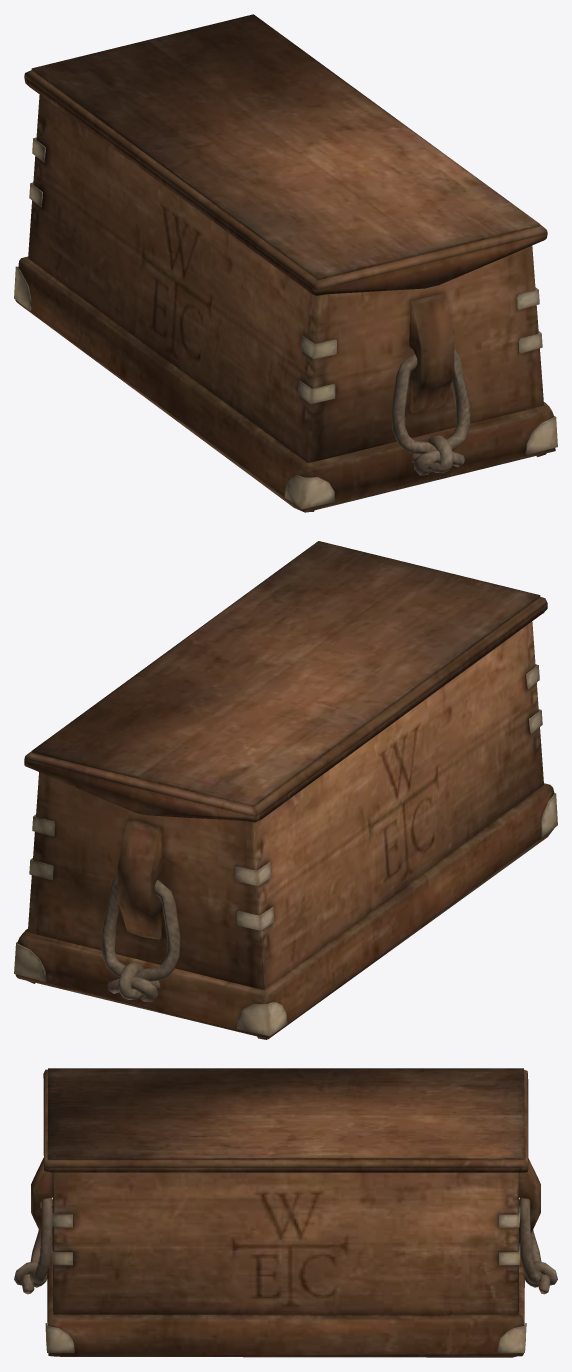
The model's file is wooden_crate_02.glb.
3 renders of one model, top to bottom at view 1: azimuth 30°, elevation 25°; view 2: azimuth 150°, elevation 25°; view 3: azimuth 270°, elevation 25°, orthographic. The views are drawn at different scales.
Parts seen in each view (by area): view 1: wooden_crate_02_crate; view 2: wooden_crate_02_crate; view 3: wooden_crate_02_crate.
Boxes of the visible parts, x1,y1,x2,y2 form: wooden_crate_02_crate: [14, 14, 557, 512]; wooden_crate_02_crate: [14, 541, 557, 1039]; wooden_crate_02_crate: [14, 1068, 557, 1357].
Size of the model in its own units: 0.5291 by 0.4639 by 1.17.
1 material, 1 textured.
